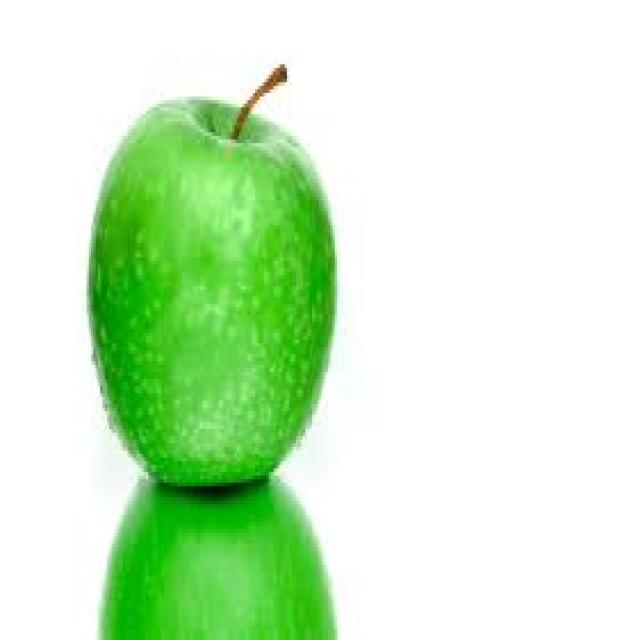non_orange: (70, 66, 382, 550)
